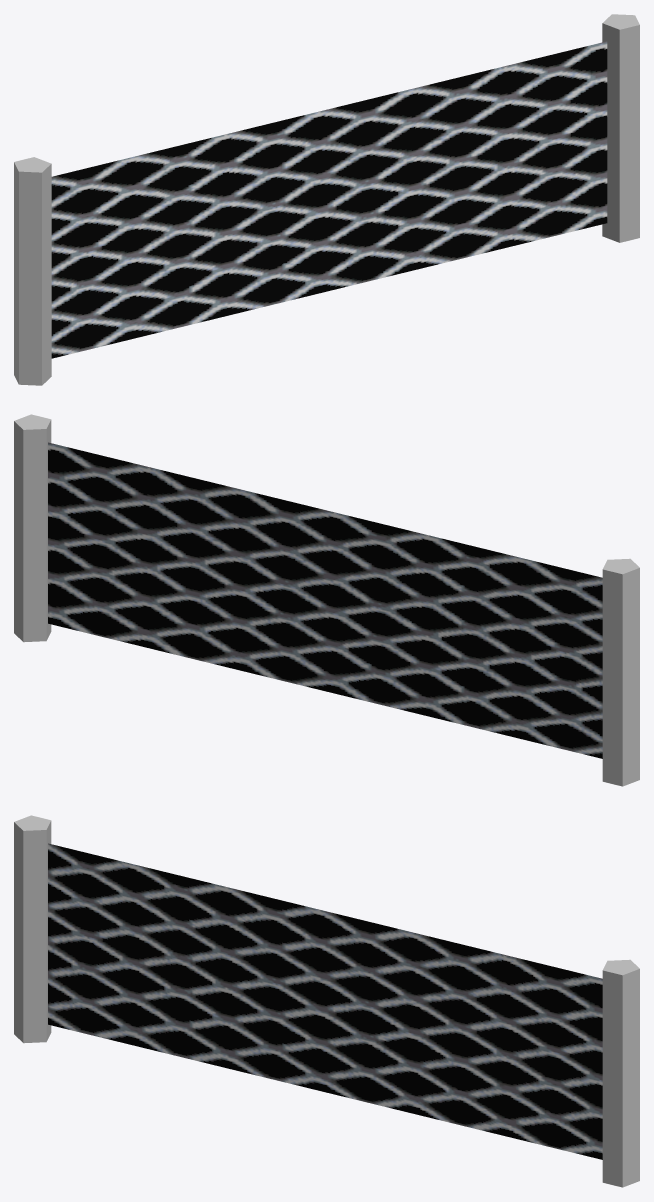
File: CercaDeFerro (1).fbx
The picture shows the model from 3 angles, top to bottom: view 1: azimuth 30°, elevation 25°; view 2: azimuth 150°, elevation 25°; view 3: azimuth 330°, elevation 25°; orthographic projection.
Visible parts, largest first — view 1: cerca de madeira; view 2: cerca de madeira; view 3: cerca de madeira.
Part boxes in pixels (<box>): cerca de madeira: <box>14,14,639,385</box>; cerca de madeira: <box>14,414,639,786</box>; cerca de madeira: <box>14,815,639,1187</box>.
Size of the model in its own units: 3620 by 1185 by 200.
